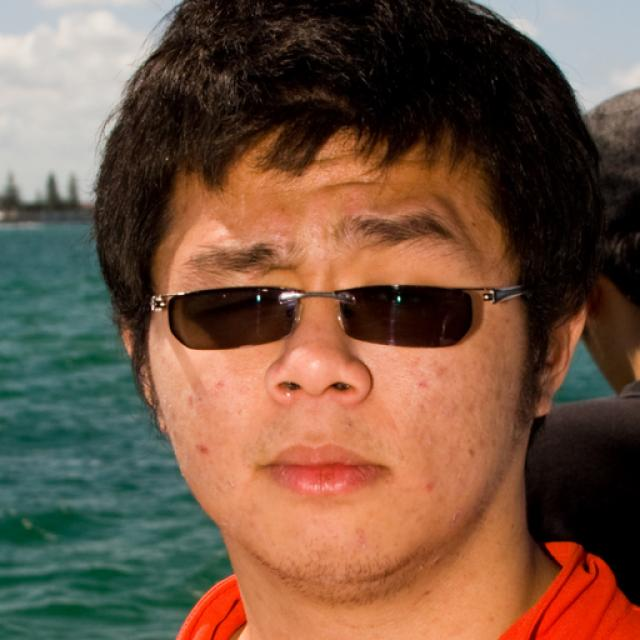Acne: (210, 373, 234, 397), (338, 418, 359, 436)
Spots: (410, 366, 436, 403), (455, 439, 484, 472), (183, 437, 216, 463), (429, 359, 457, 385), (413, 477, 439, 502), (179, 389, 199, 415), (483, 432, 505, 453), (491, 386, 507, 406)
